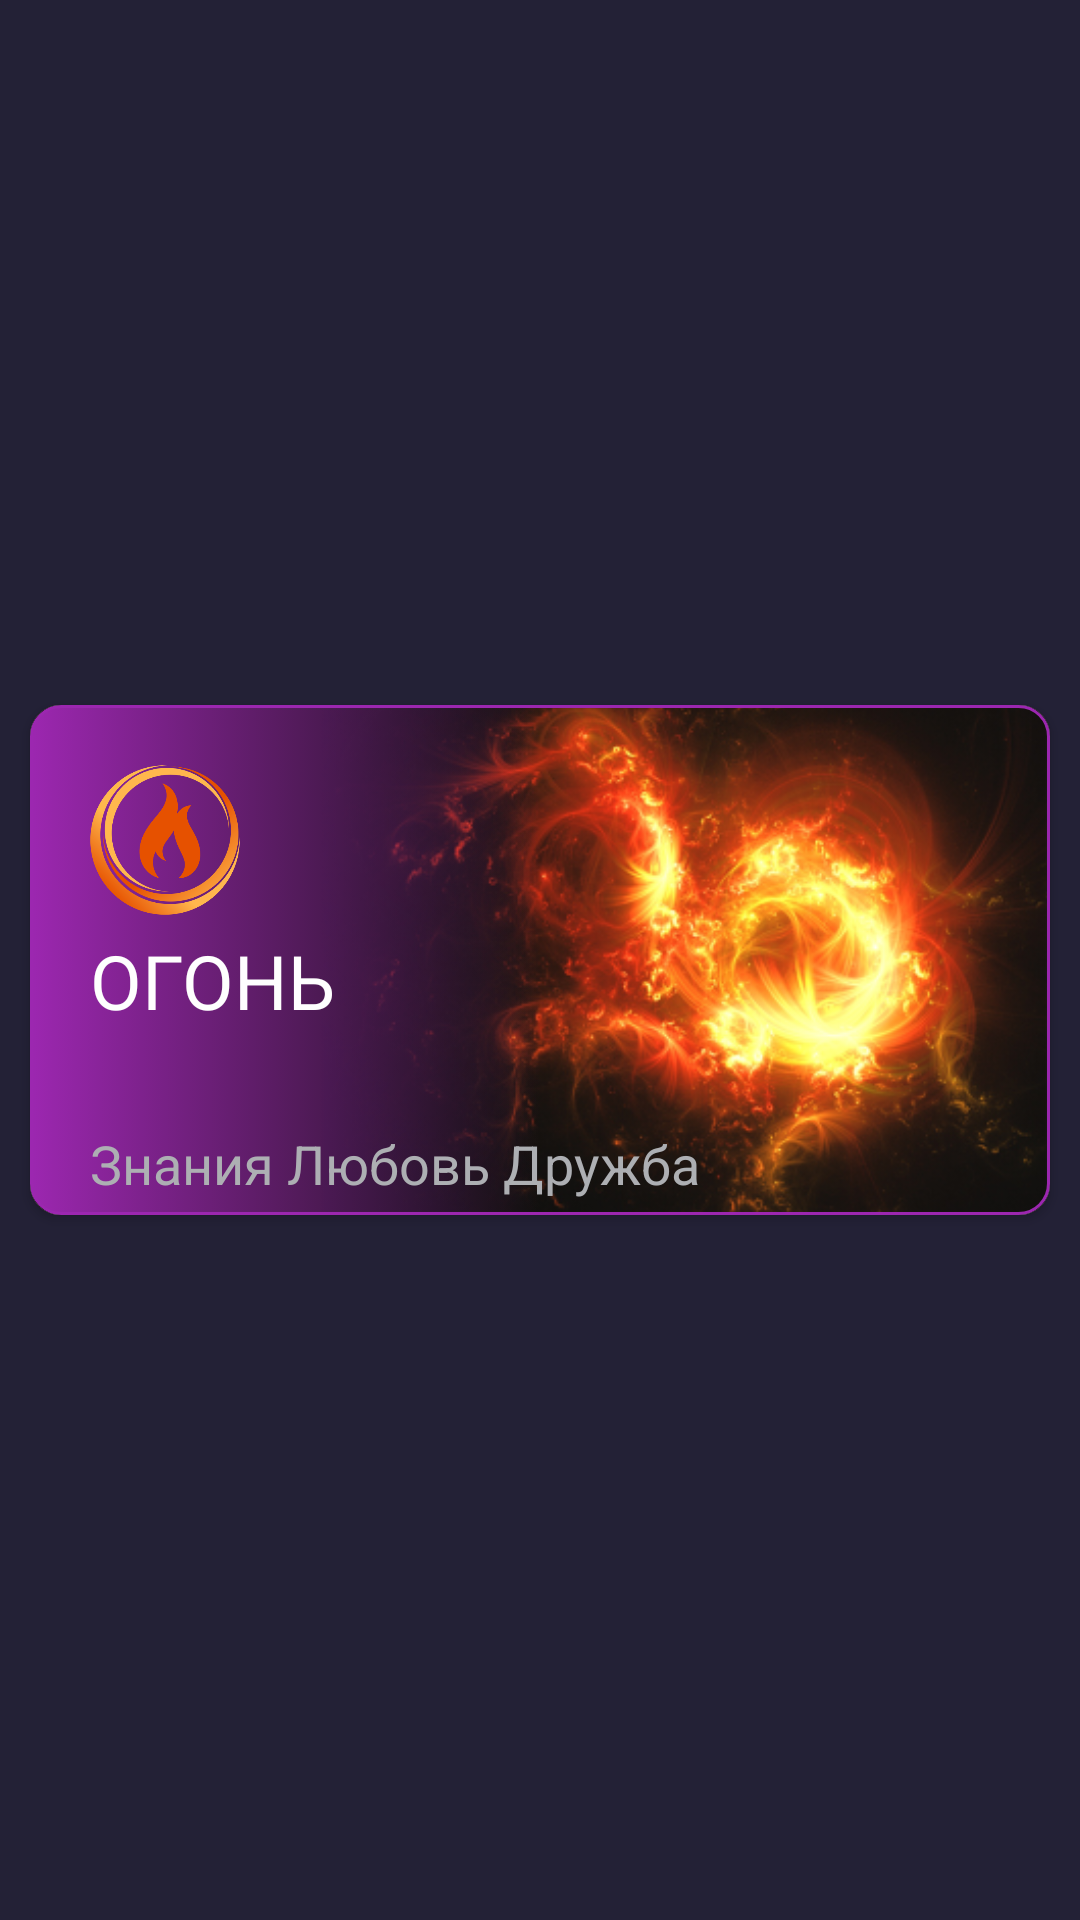

Icons on this 1080px×1920px Android screen, each with the point to tap as (x=x, y=y):
fireimg: (x=165, y=840)
